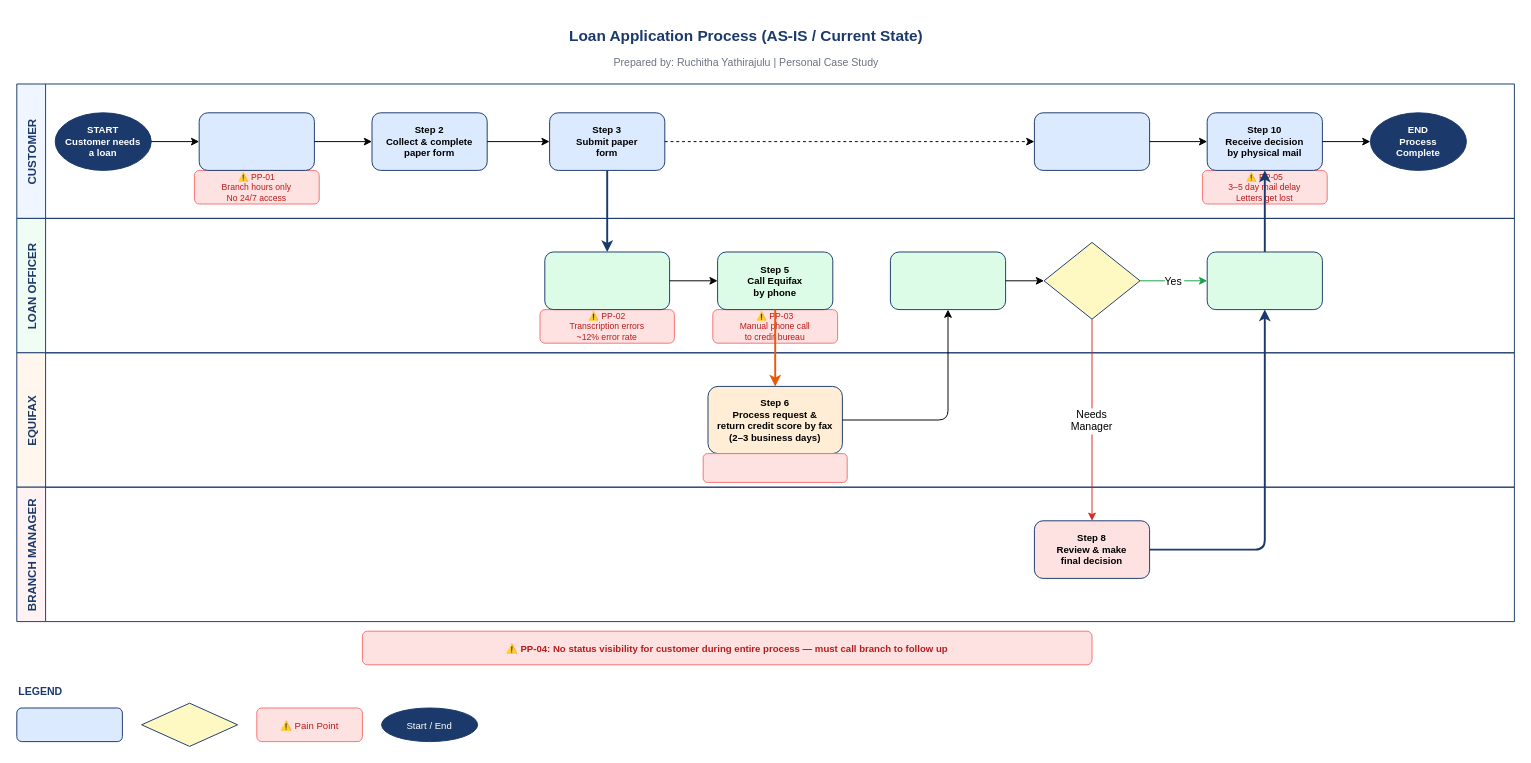
Some shapes in this 1531 by 763 pixel diagram are drawn without their labels. Here are the shapes that lost their labels. From the top down, the centre of each, then its label:
the point at 256,141: Step 1 should visit branch in person
the point at 1091,141: Wait for decision... (up to 10 days)
the point at 607,280: Step 4 Manually re-enter form data into CBS
the point at 947,280: Step 7 Manually review all documents
the point at 1091,280: Approved?
the point at 1264,280: Step 9 Send decision letter by mail
the point at 774,467: ⚠️ PP-03 2–3 day delay per application
the point at 69,724: Process Step
the point at 189,724: Decision Point
